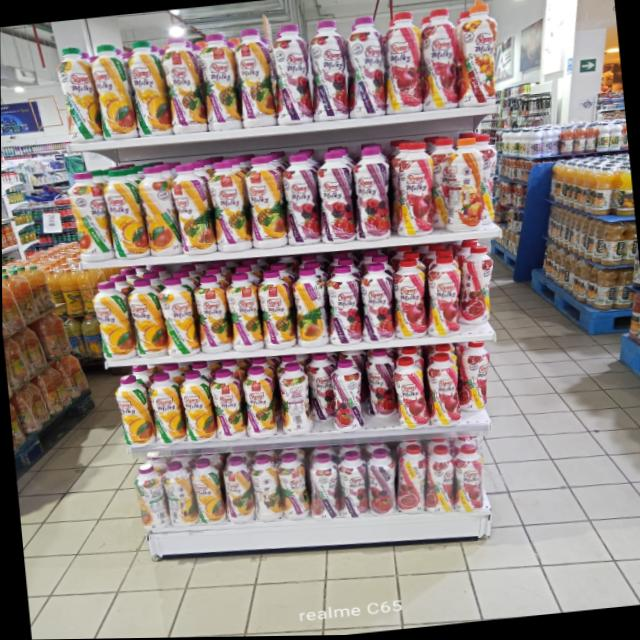ramy_plastique: (451, 4, 508, 108), (305, 17, 356, 123), (386, 142, 442, 238), (414, 8, 465, 113), (377, 10, 426, 116), (267, 21, 316, 126), (125, 37, 175, 139), (87, 42, 137, 142), (157, 34, 206, 136), (439, 139, 491, 234), (343, 13, 390, 118), (312, 146, 360, 246), (349, 144, 397, 244), (54, 45, 102, 145), (232, 27, 279, 129), (135, 162, 184, 259), (279, 151, 327, 249), (64, 169, 113, 265), (242, 154, 290, 252), (166, 161, 214, 259), (197, 30, 243, 132), (100, 166, 149, 261), (204, 159, 251, 255), (421, 250, 466, 340), (155, 276, 201, 362), (290, 264, 334, 351), (124, 275, 168, 361), (90, 280, 135, 362), (191, 272, 234, 357), (255, 267, 297, 354), (111, 374, 159, 450), (356, 258, 398, 344), (223, 269, 264, 355), (456, 244, 498, 325), (324, 266, 365, 348), (422, 349, 463, 431), (389, 353, 430, 434), (175, 369, 217, 446), (390, 261, 429, 343), (145, 370, 186, 448), (327, 358, 367, 436), (239, 365, 279, 443), (206, 366, 246, 443), (274, 360, 313, 438), (448, 440, 488, 516), (301, 352, 341, 427), (391, 442, 431, 517), (158, 459, 198, 532), (420, 441, 458, 517), (188, 456, 228, 528), (455, 339, 493, 414), (363, 347, 401, 420), (335, 448, 373, 521), (305, 449, 343, 522), (363, 446, 401, 519), (131, 461, 169, 533), (273, 451, 311, 523), (246, 452, 283, 525), (221, 454, 258, 526)
